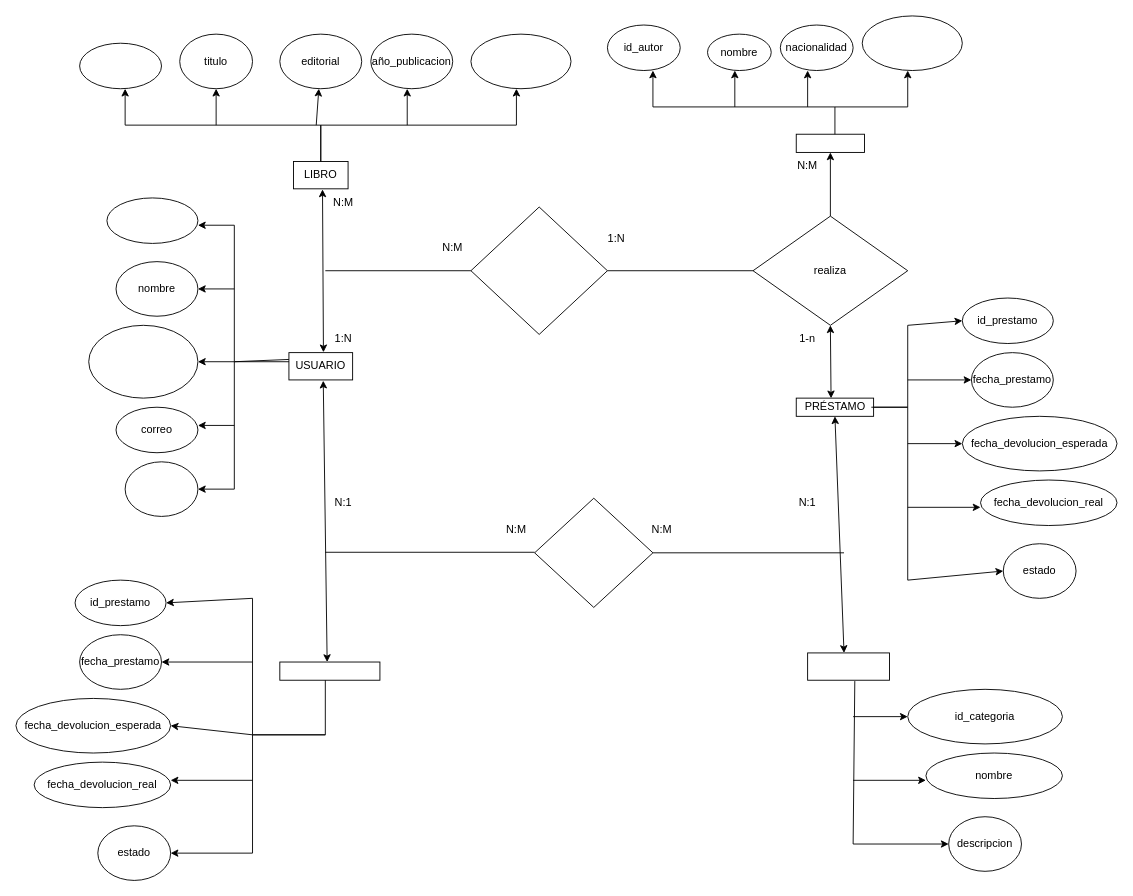
The diagram is 1133 pixels wide and 896 high, and some of its shapes have lost their labels. The box of each missing label's shape, as (x1, y1, x2, y2) in pixels:
AUTOR: (795, 133, 864, 152)
CATEGORIA: (807, 652, 890, 680)
codigo_usuario: (106, 197, 198, 243)
copias_disponibles: (470, 33, 571, 89)
escribe: (470, 206, 607, 334)
fecha_nacimiento: (861, 15, 962, 71)
incluye: (534, 497, 653, 607)
ISBN: (79, 42, 162, 89)
PRESTAMO: (279, 661, 380, 680)
teléfono: (124, 461, 198, 516)
tipo (estudiante/docente): (88, 324, 198, 398)
